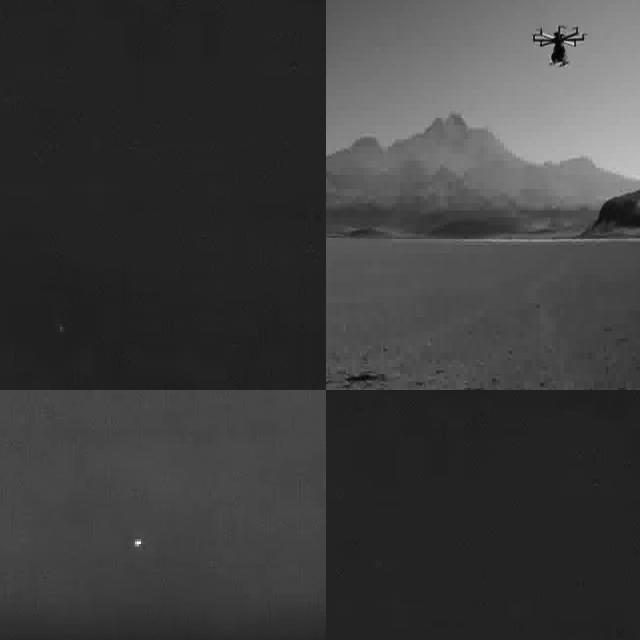0: (52, 317, 74, 349)
1: (128, 533, 156, 560)
drone: (532, 16, 585, 73)
